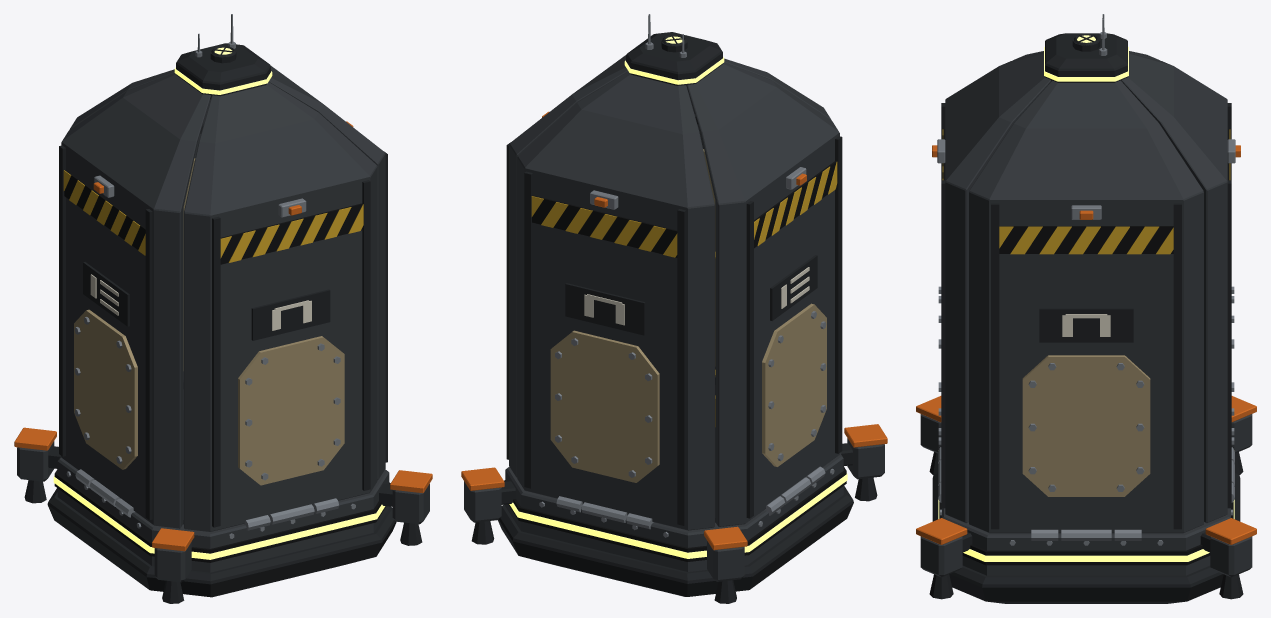
File: supply_pod.fbx
The picture shows the model from 3 angles, left to right: view 1: azimuth 30°, elevation 25°; view 2: azimuth 150°, elevation 25°; view 3: azimuth 270°, elevation 25°; orthographic projection. The views are drawn at different scales.
Parts seen in each view (by area): view 1: Petal_1, Petal_4, Body, Petal_2, Glow, Petal_3; view 2: Petal_3, Petal_4, Body, Petal_2, Glow, Petal_1; view 3: Petal_2, Body, Petal_1, Petal_3, Glow.
Boxes of the visible parts, <box> form: Petal_1: <box>184,82,377,531</box>; Petal_4: <box>59,73,210,528</box>; Body: <box>14,14,432,603</box>; Petal_2: <box>269,66,387,480</box>; Glow: <box>53,47,385,559</box>; Petal_3: <box>69,69,210,409</box>; Petal_3: <box>517,71,714,530</box>; Petal_4: <box>687,62,842,526</box>; Body: <box>461,14,887,603</box>; Petal_2: <box>506,55,628,477</box>; Glow: <box>509,36,847,558</box>; Petal_1: <box>687,58,831,394</box>; Petal_2: <box>969,80,1203,540</box>; Body: <box>916,14,1256,603</box>; Petal_1: <box>932,52,1051,522</box>; Petal_3: <box>1121,52,1240,522</box>; Glow: <box>938,35,1234,561</box>.
Bounding box in the file's own units: 507 × 893 × 507.
Materials: 7 (5 with a texture image).
